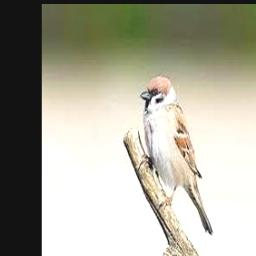Sparrow: (141, 75, 212, 234)
